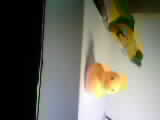duck: (74, 53, 126, 101)
